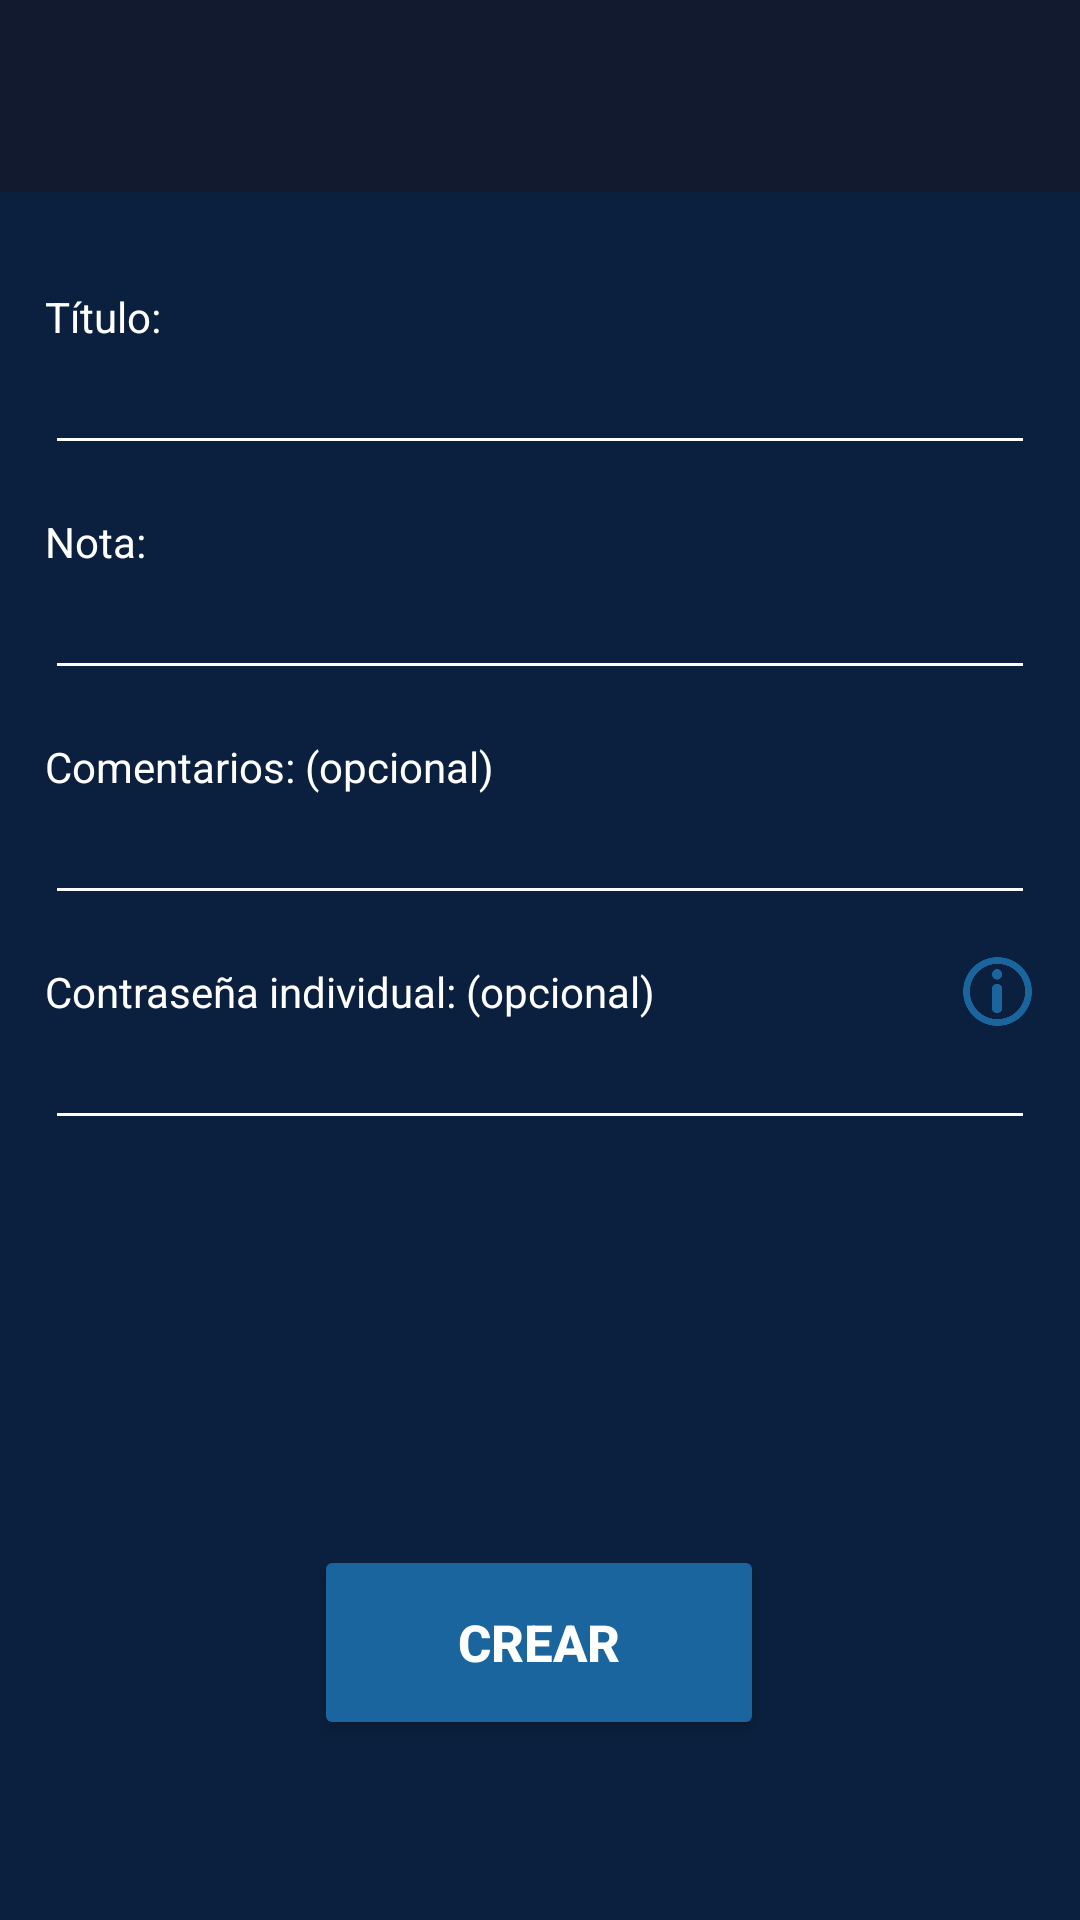

Icons on this 1080px×1920px Android screen, each with the point to tap as (x,y):
info: (997,991)
